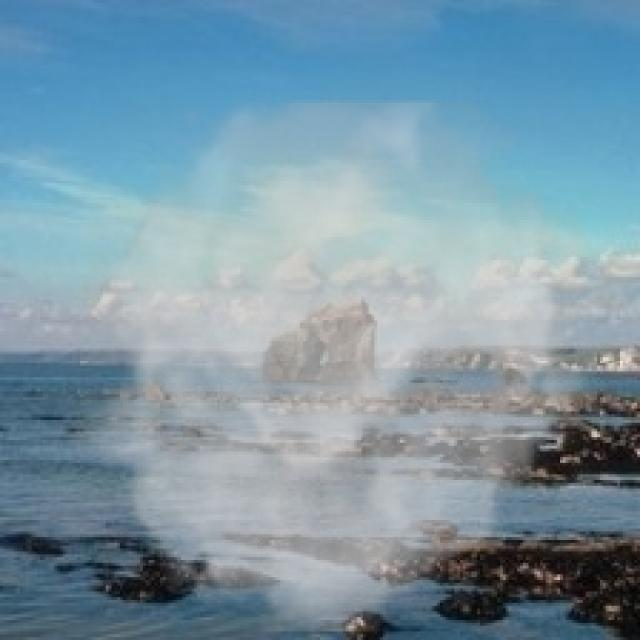smoke: (69, 100, 608, 631)
